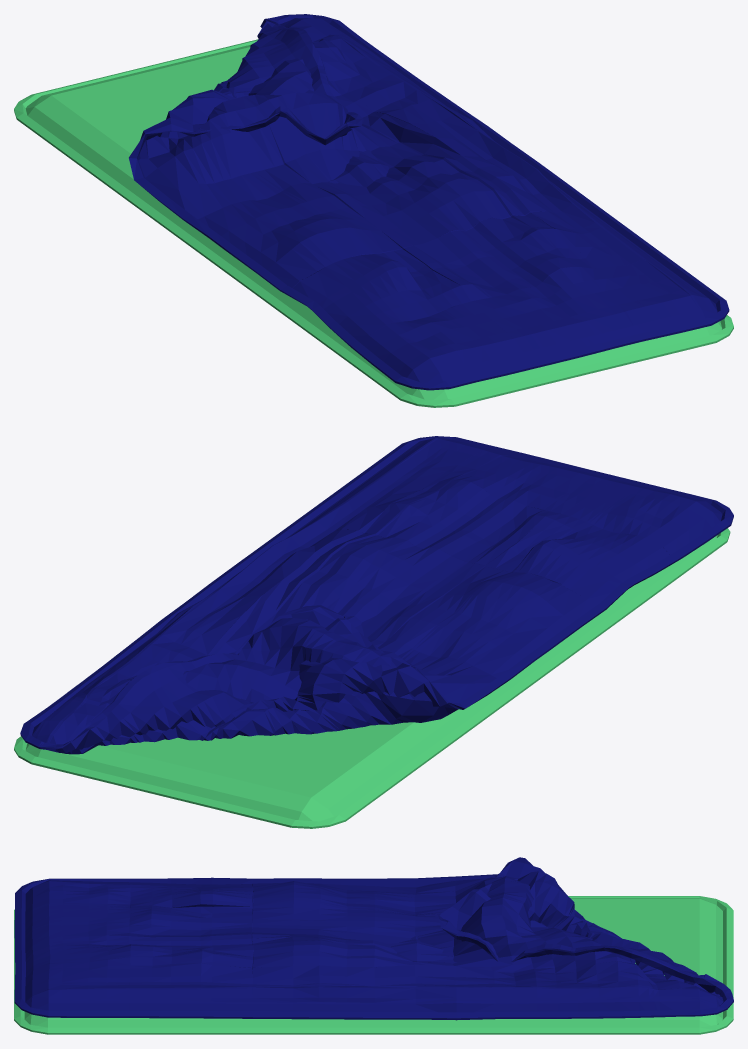
The model's file is sleeping_bag.obj.
3 renders of one model, top to bottom at view 1: azimuth 30°, elevation 25°; view 2: azimuth 150°, elevation 25°; view 3: azimuth 270°, elevation 25°, orthographic. The views are drawn at different scales.
Parts seen in each view (by area): view 1: cobertor, saco; view 2: cobertor, saco; view 3: cobertor, saco.
Boxes of the visible parts, x1,y1,x2,y2 form: cobertor: [129, 14, 729, 390]; saco: [14, 39, 733, 407]; cobertor: [20, 436, 733, 754]; saco: [14, 528, 730, 828]; cobertor: [14, 857, 733, 1020]; saco: [14, 896, 733, 1034].
Size of the model in its own units: 1.49 by 0.377 by 3.26.
